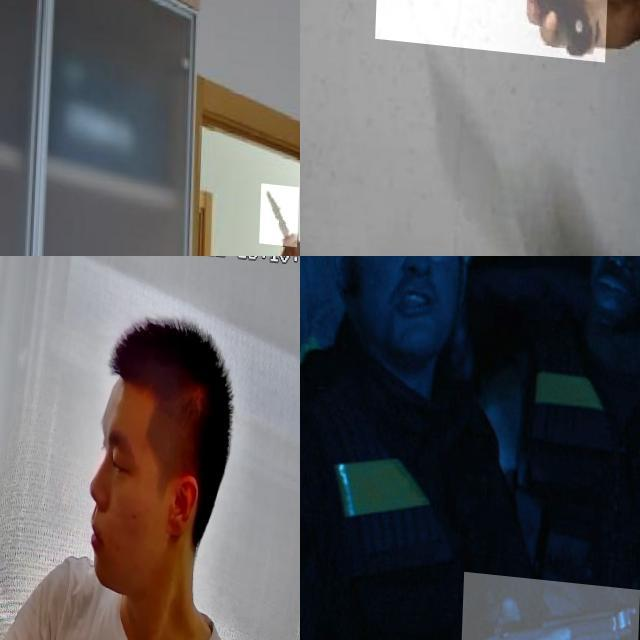-: (378, 0, 615, 132), (261, 176, 300, 239)
gun-knife-thesis - v11 Yolov5 augmented: (0, 287, 73, 561), (463, 565, 640, 640)
